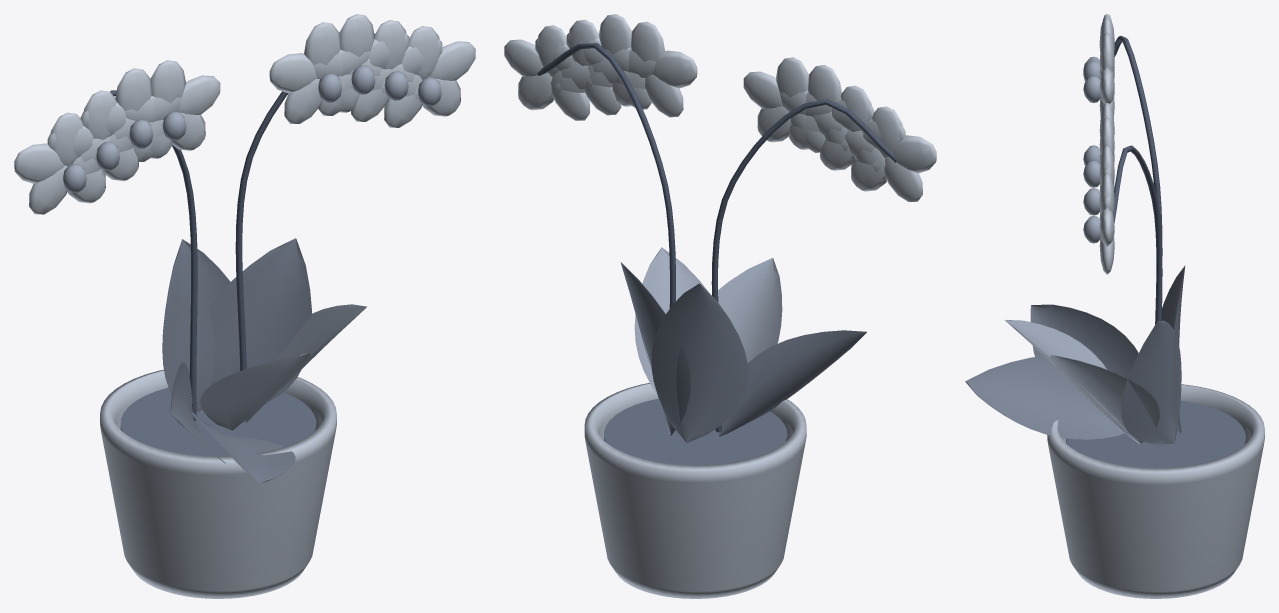
File: flower-orchid.glb
The picture shows the model from 3 angles, left to right: view 1: azimuth 30°, elevation 25°; view 2: azimuth 150°, elevation 25°; view 3: azimuth 270°, elevation 25°; orthographic projection. The views are drawn at different scales.
Visible parts, largest first — view 1: body, accent, soft, glass, light, flowercenter, dark; view 2: body, accent, soft, glass, light, dark; view 3: body, soft, glass, light, accent, dark, flowercenter.
Part boxes in pixels (<box>): body: <box>100,369,336,598</box>; accent: <box>14,14,475,214</box>; soft: <box>162,238,311,483</box>; glass: <box>120,387,316,456</box>; light: <box>200,304,367,431</box>; flowercenter: <box>63,65,441,193</box>; dark: <box>110,33,374,421</box>; body: <box>584,383,806,598</box>; accent: <box>504,14,936,201</box>; soft: <box>620,262,866,442</box>; glass: <box>604,398,787,465</box>; light: <box>634,247,782,394</box>; dark: <box>537,43,897,432</box>; body: <box>1047,384,1264,598</box>; soft: <box>965,265,1185,444</box>; glass: <box>1066,401,1245,467</box>; light: <box>1005,319,1159,444</box>; accent: <box>1099,14,1114,274</box>; dark: <box>1113,36,1162,324</box>; flowercenter: <box>1083,56,1100,243</box>.
Size of the model in its own units: 0.6791 by 0.76 by 0.4158.
